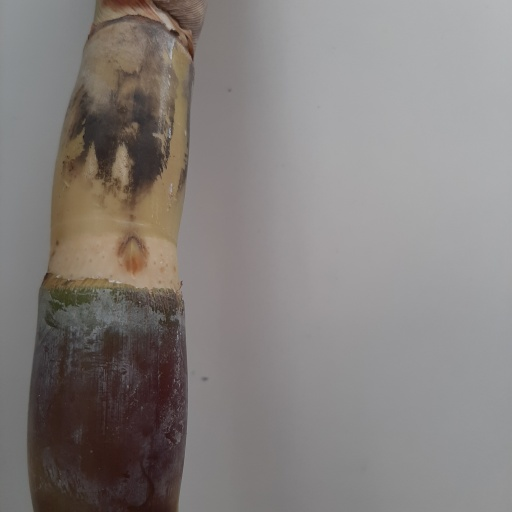Bud: (115, 235, 149, 275)
